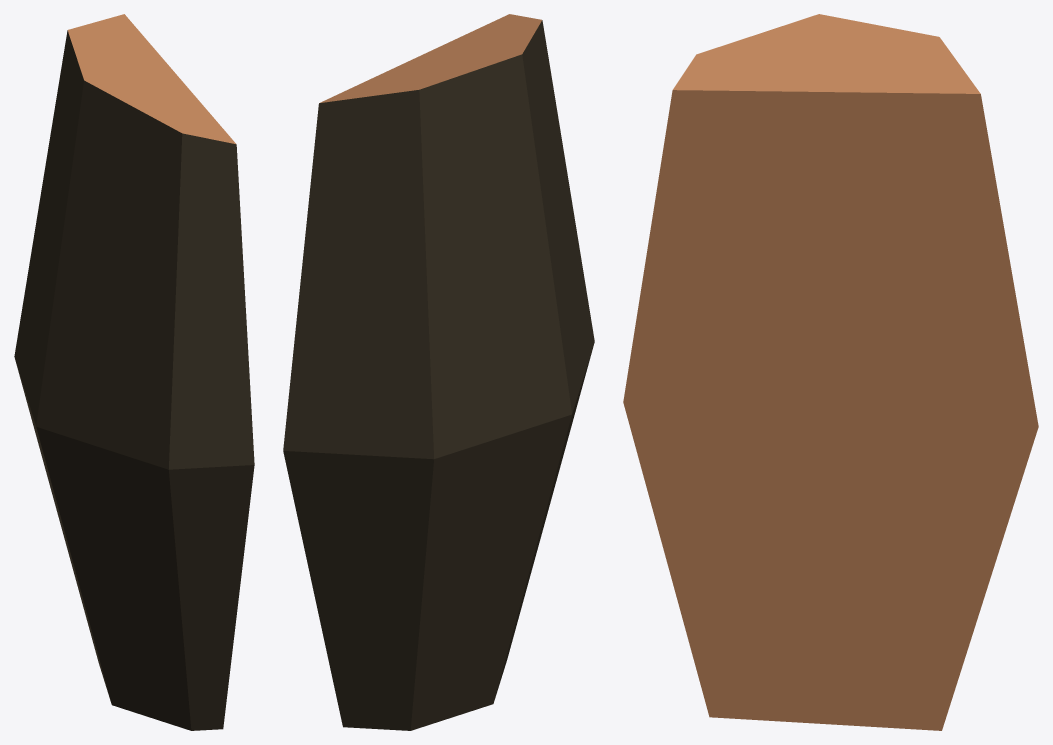
Rendered from vase_tall_01_shard_1.glb.
3 renders of one model, left to right at view 1: azimuth 30°, elevation 25°; view 2: azimuth 150°, elevation 25°; view 3: azimuth 270°, elevation 25°, orthographic. The views are drawn at different scales.
Parts seen in each view (by area): view 1: vase_tall_01_shard_1; view 2: vase_tall_01_shard_1; view 3: vase_tall_01_shard_1.
Boxes of the visible parts, x1=… form: vase_tall_01_shard_1: x1=14, y1=14, x2=254, y2=730; vase_tall_01_shard_1: x1=283, y1=14, x2=594, y2=730; vase_tall_01_shard_1: x1=623, y1=14, x2=1038, y2=730.
Size of the model in its own units: 0.1825 by 0.6381 by 0.3645.
2 materials, 1 textured.
